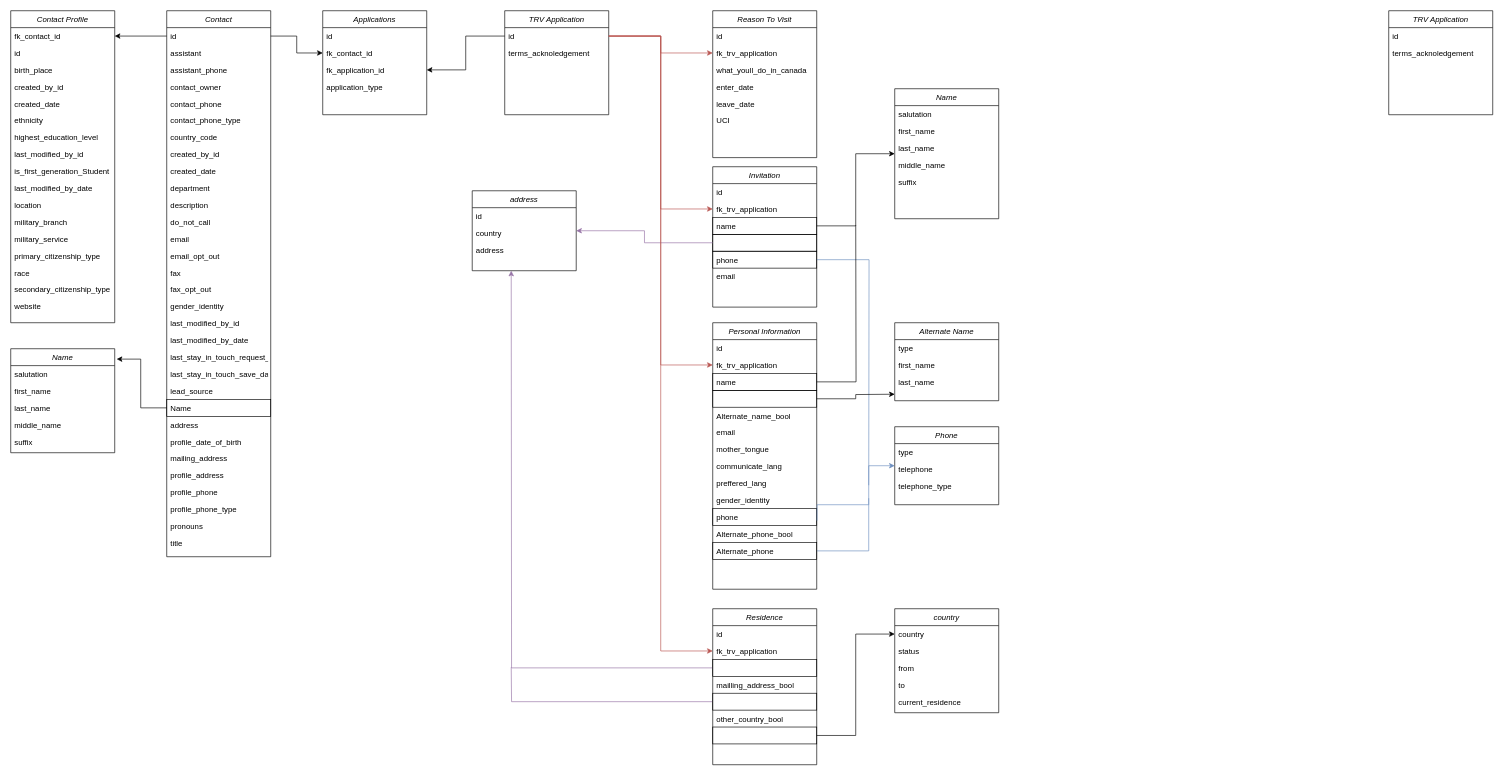
Some shapes in this 1503 by 775 pixel diagram are drawn without their labels. Here are the shapes that lost their labels. From the top down, the centre of each, then its label:
the point at 764,242: inviter_address
the point at 764,398: alternate_name
the point at 764,667: residence_address
the point at 764,701: mailling_address
the point at 764,735: country_previous
